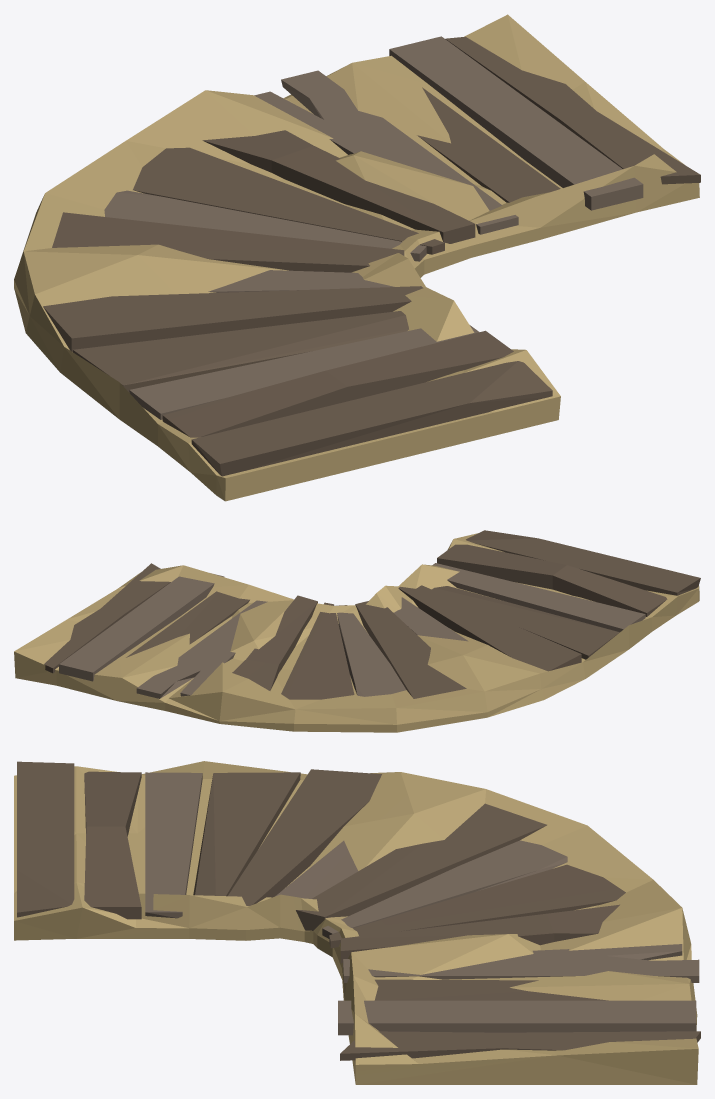
Rendered from Road_Wood_01.glb.
The picture shows the model from 3 angles, top to bottom: view 1: azimuth 30°, elevation 25°; view 2: azimuth 150°, elevation 25°; view 3: azimuth 270°, elevation 25°; orthographic projection. The views are drawn at different scales.
Visible parts, largest first — view 1: road_wood_1; view 2: road_wood_1; view 3: road_wood_1.
Boxes of the visible parts, x1,y1,x2,y2 form: road_wood_1: (14, 14, 700, 501); road_wood_1: (14, 530, 700, 732); road_wood_1: (14, 761, 700, 1084).
Bounding box in the file's own units: 6.05 × 0.4444 × 6.03.
Materials: 1 (1 with a texture image).
